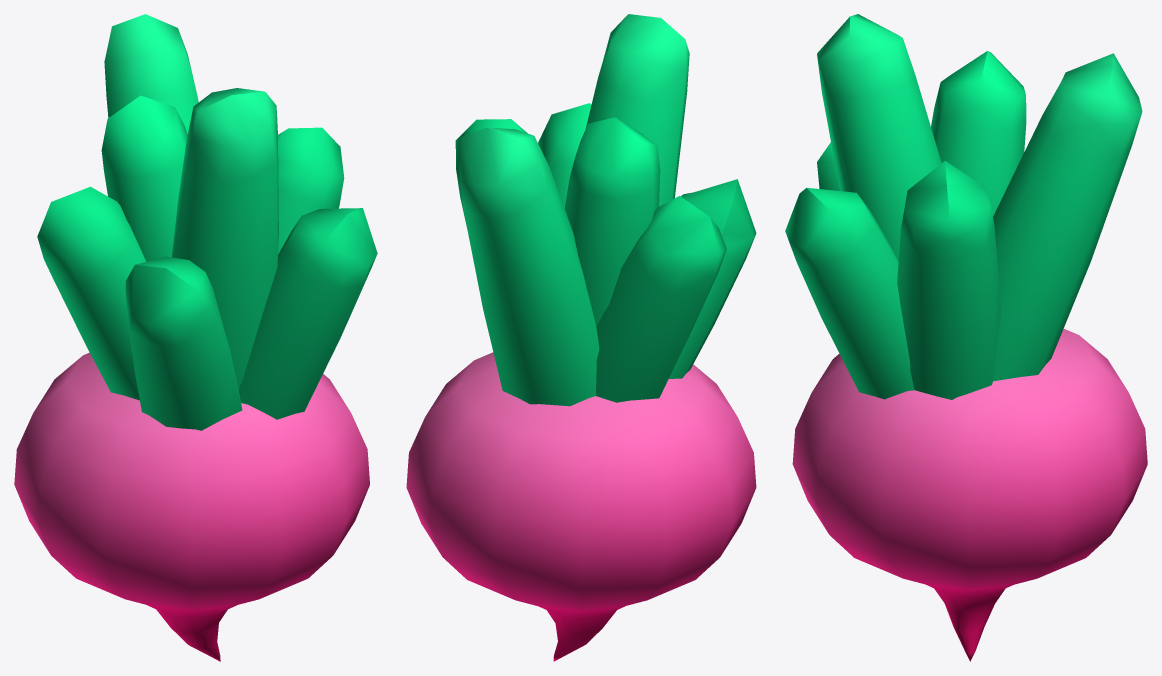
The model's file is Farm_Crop_Beet_01.fbx.
3 renders of one model, left to right at view 1: azimuth 30°, elevation 25°; view 2: azimuth 150°, elevation 25°; view 3: azimuth 270°, elevation 25°, orthographic.
Parts seen in each view (by area): view 1: Farm_Crop_Beet_01; view 2: Farm_Crop_Beet_01; view 3: Farm_Crop_Beet_01.
Part boxes in pixels (box(x1,y1,x2,y2)): Farm_Crop_Beet_01: box(14, 14, 377, 661); Farm_Crop_Beet_01: box(406, 14, 756, 661); Farm_Crop_Beet_01: box(785, 14, 1147, 661).
Size of the model in its own units: 51 by 98.52 by 52.08.
